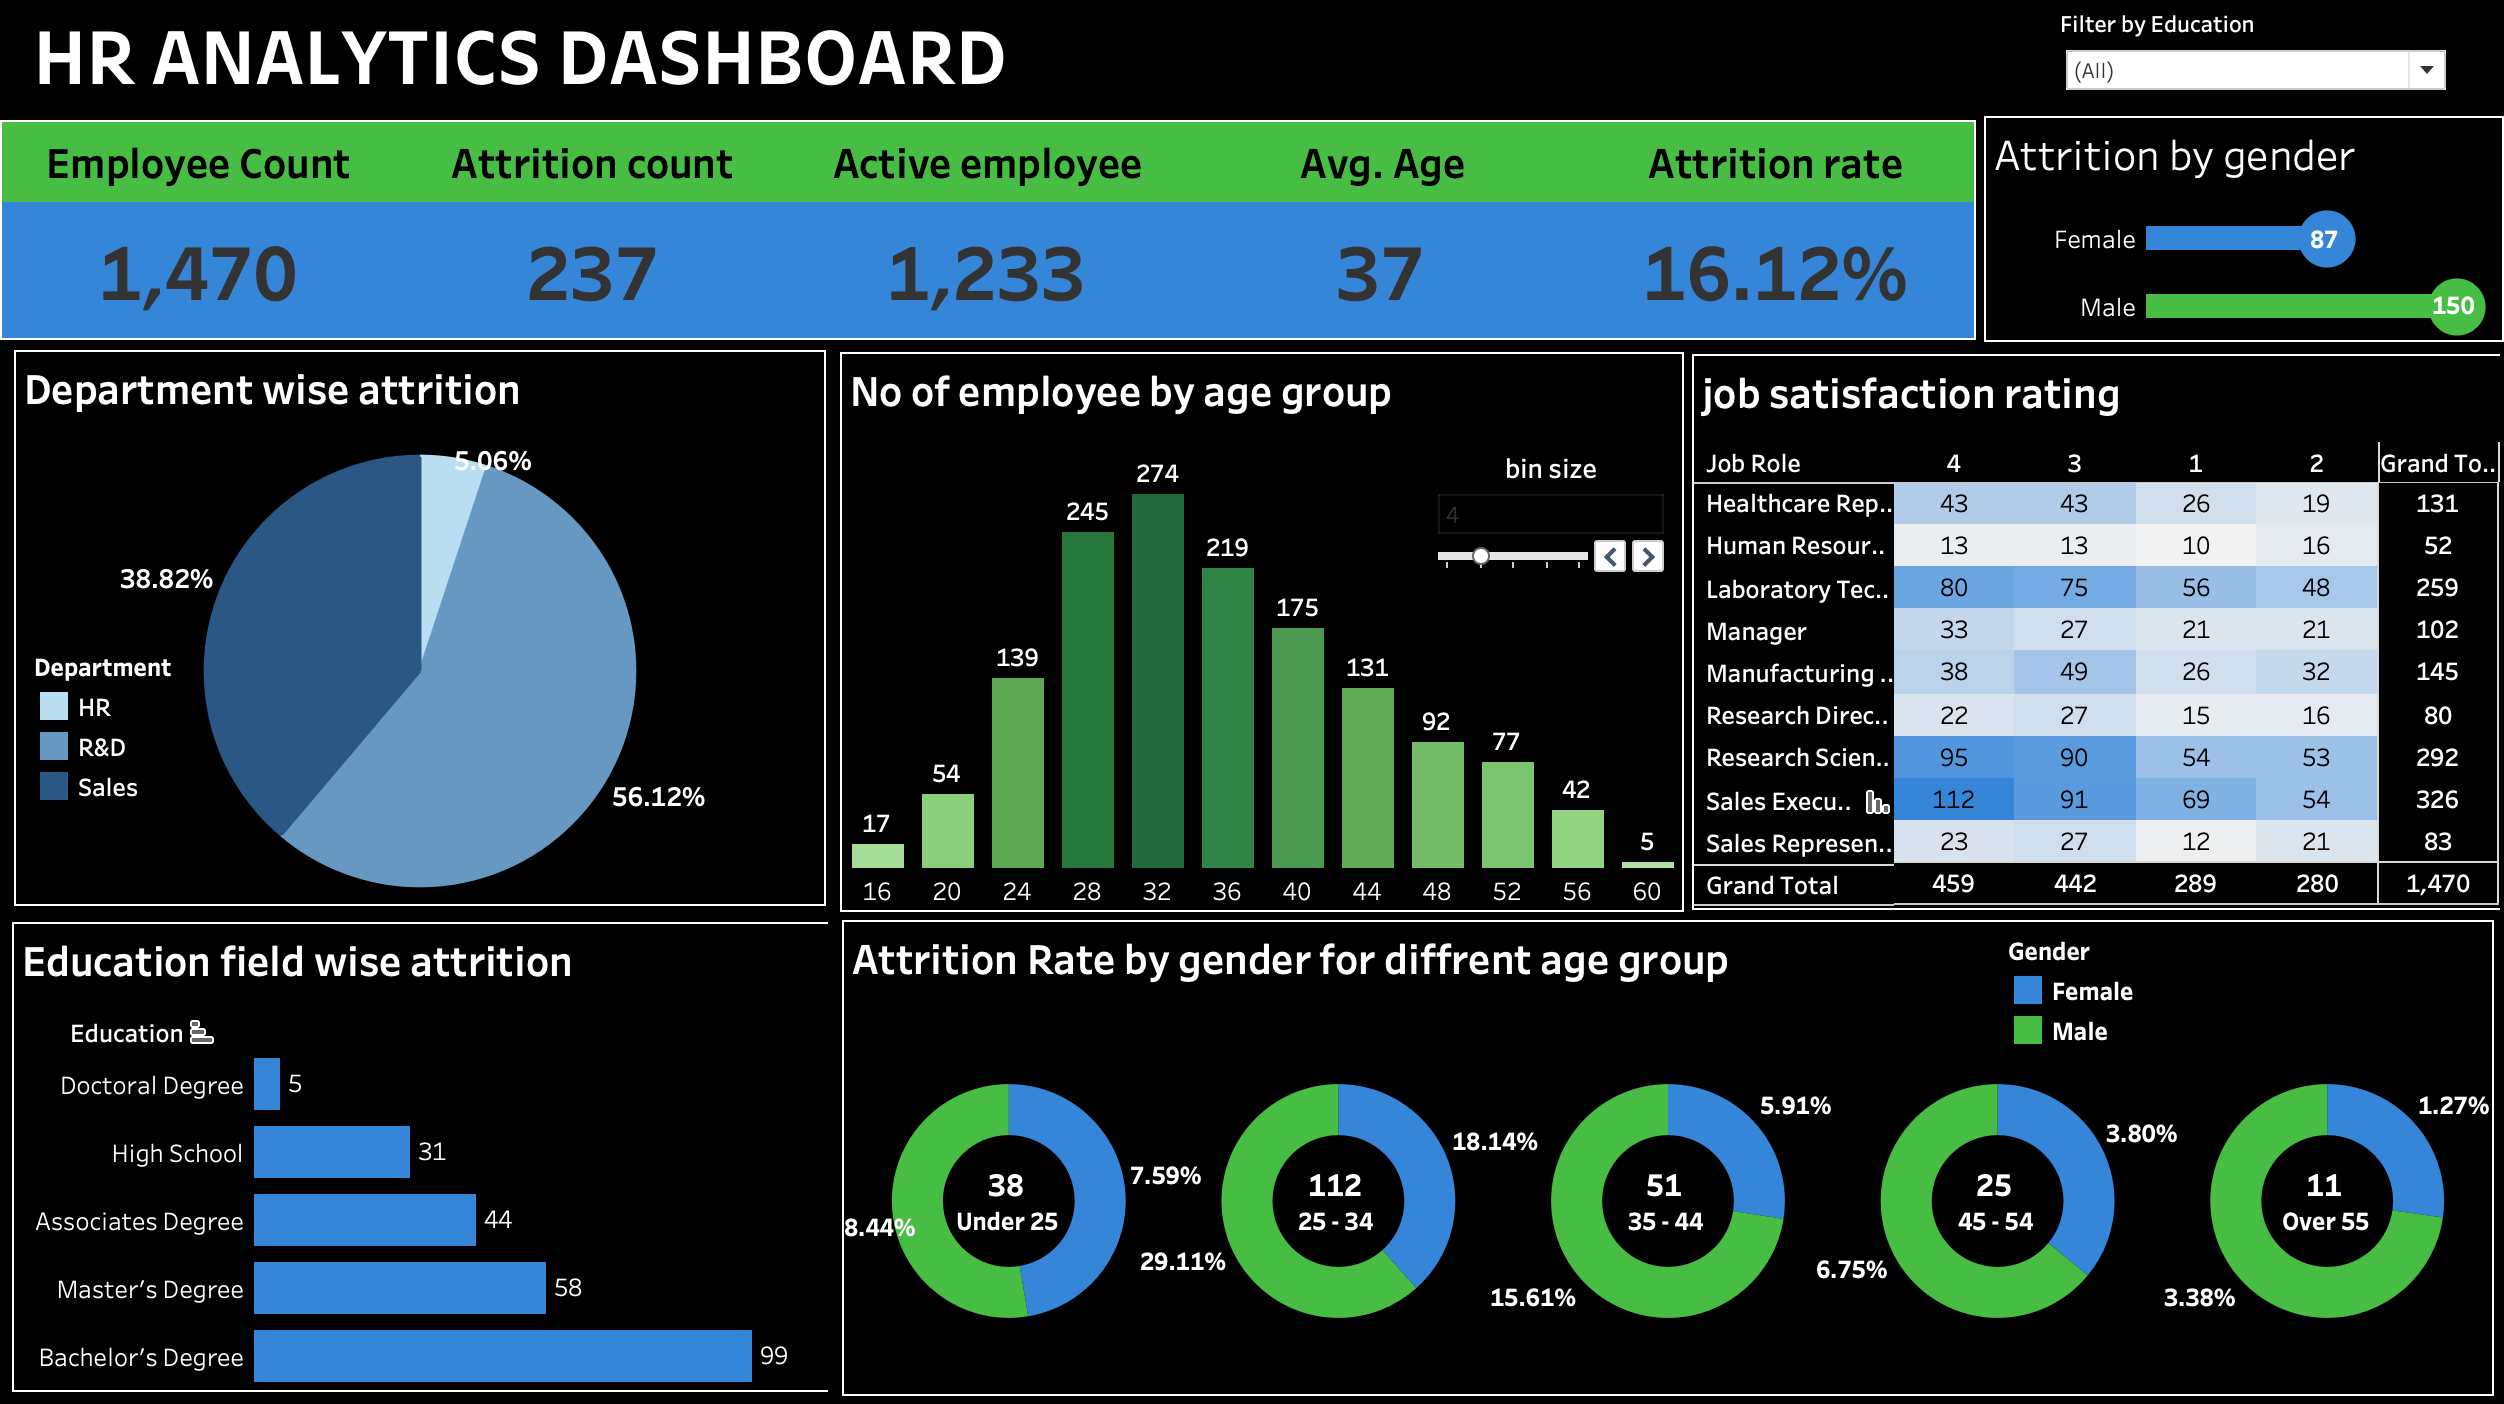

This screenshot's page, from the dashboard's own definition file:
{"tool":"tableau","page":{"name":"Dashboard 1","canvas":[1000,1000],"units":"permille","ordinal":0},"visuals":[{"type":"text","box":[21.5,19.4,669.1,74.1]},{"type":"filter","title":"KPI","param":"[federated.1iag9qz0fau01s1958g5a0ms4t06].[none:Education:nk]","box":[815.7,24.8,153.4,72.6]},{"type":"worksheet","title":"Attrition by gender","mark":"Automatic","rows":["Gender"],"cols":["Calculation_118641762568015872","Calculation_118641762568015872"],"box":[785.8,98.8,203,155.2]},{"type":"worksheet","title":"KPI","mark":"Automatic","box":[11.2,101.8,771.8,150.9]},{"type":"worksheet","title":"Department wise attrition","mark":"Pie","box":[16.2,259,317.4,380.2]},{"type":"worksheet","title":"No of employee by age group","mark":"Automatic","rows":["Employee Count"],"cols":["Age (bin)"],"box":[339,260.5,330,383.2]},{"type":"worksheet","title":"job satisfaction rating","mark":"Square","rows":["Job Role"],"cols":["Job Satisfaction"],"box":[671.7,261,316.2,380.9]},{"type":"parameter","param":"[Parameters].[Parameter 1]","box":[570.2,327.4,93.3,113.3]},{"type":"legend","title":"Department wise attrition","param":"[federated.1iag9qz0fau01s1958g5a0ms4t06].[none:Department:nk]","box":[24.3,464.9,78.6,150.9]},{"type":"worksheet","title":"Attrition Rate by gender for diffrent age group","mark":"Pie","rows":["Calculation_200691718358999041","Calculation_200691718358999041"],"cols":["CF_age band"],"box":[339.9,649.7,645.6,326.4]},{"type":"worksheet","title":"Education field wise attrition","mark":"Automatic","rows":["Education"],"cols":["Calculation_118641762568015872"],"box":[15.3,651.2,319.2,321.9]}]}

Visuals, with their boxes on the dashboard's canvas, which has no fixed pixel size, in thousandths of its width and height (x1, y1, x2, y2). These are canvas units, not pixel positions in the 2504x1404 screenshot, which may show the page scaled, cropped or inside an application window:
text: box(22, 19, 691, 94)
"KPI" filter: box(816, 25, 969, 97)
"Attrition by gender" worksheet: box(786, 99, 989, 254)
"KPI" worksheet: box(11, 102, 783, 253)
"Department wise attrition" worksheet (Pie marks): box(16, 259, 334, 639)
"No of employee by age group" worksheet: box(339, 260, 669, 644)
"job satisfaction rating" worksheet (Square marks): box(672, 261, 988, 642)
parameter: box(570, 327, 664, 441)
"Department wise attrition" legend: box(24, 465, 103, 616)
"Attrition Rate by gender for diffrent age group" worksheet (Pie marks): box(340, 650, 986, 976)
"Education field wise attrition" worksheet: box(15, 651, 334, 973)
